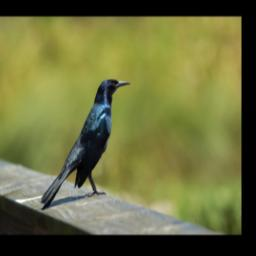Crow: (38, 77, 131, 210)
